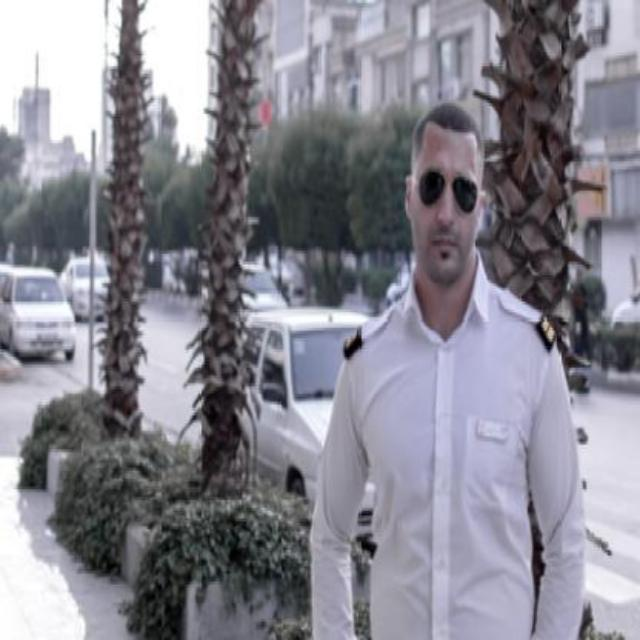sunglasses: (413, 170, 477, 214)
